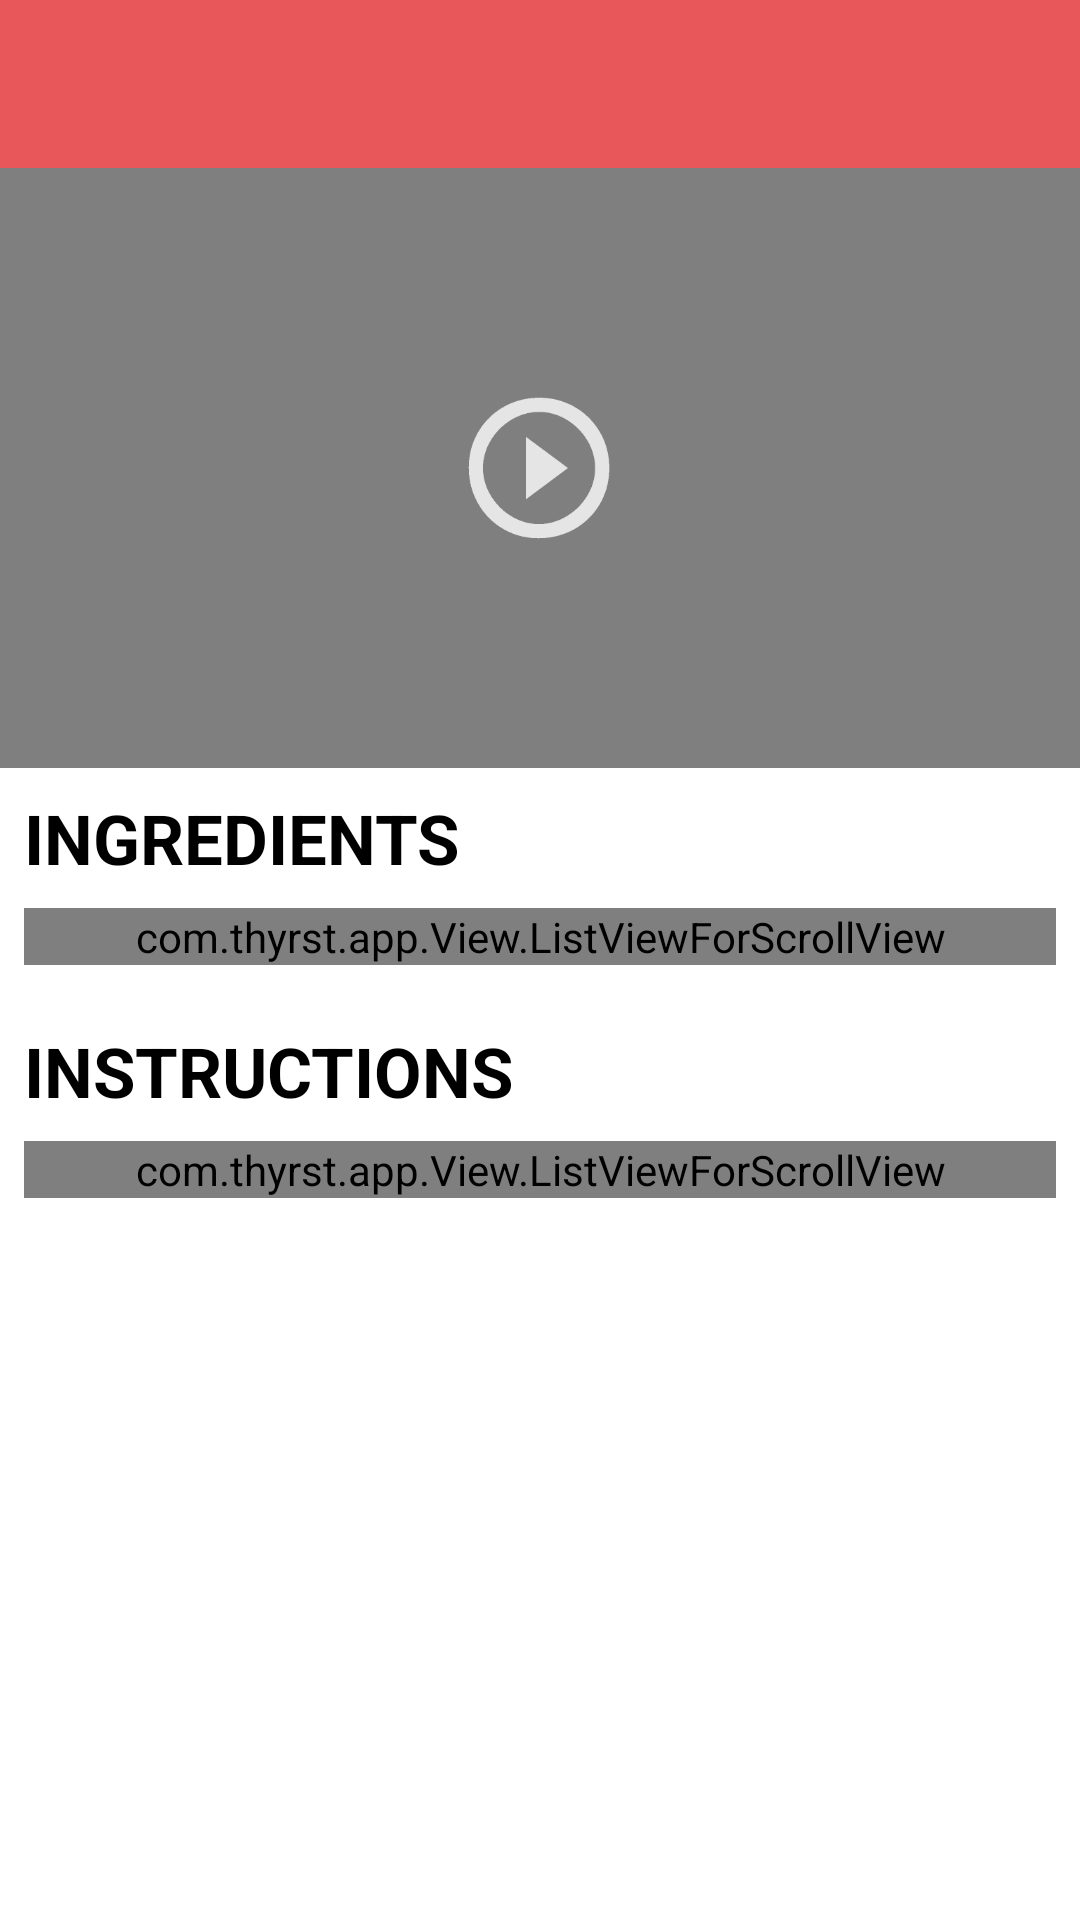

Screen size 1080×1920. Icon name, then its center in pixels as [x,y]:
video play: [539,468]
